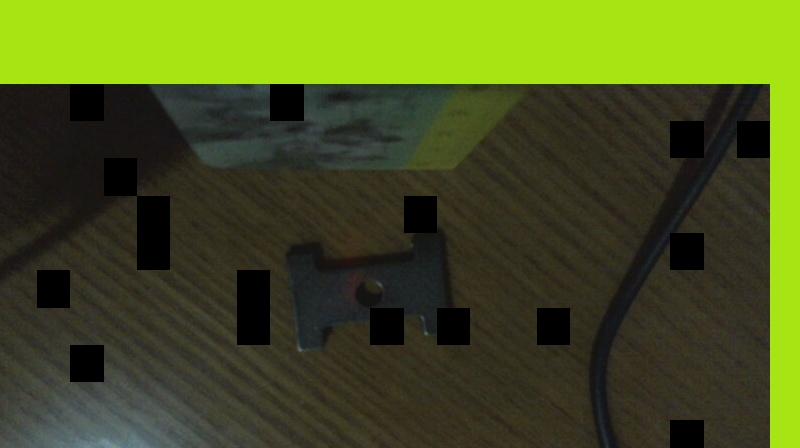O002: (285, 226, 452, 351)
